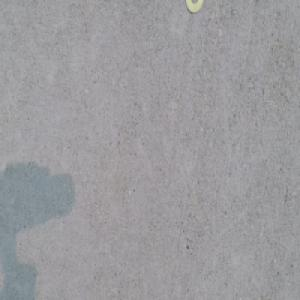Washer: (186, 0, 202, 13)
